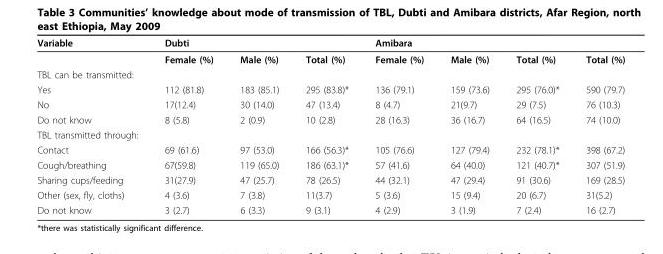table: (36, 36, 624, 215)
table column: (36, 36, 150, 215), (150, 36, 226, 215), (361, 36, 436, 215), (291, 36, 361, 215), (502, 36, 571, 215), (436, 36, 502, 215), (226, 36, 291, 215), (571, 36, 624, 215)
table column header: (36, 36, 624, 50)
table projected row header: (36, 66, 624, 81), (36, 126, 624, 141)
table row: (36, 50, 624, 66), (36, 141, 624, 157), (36, 66, 624, 81), (36, 81, 624, 96), (36, 96, 624, 111), (36, 111, 624, 126), (36, 126, 624, 141), (36, 157, 624, 172), (36, 172, 624, 187), (36, 187, 624, 202), (36, 36, 624, 50), (36, 202, 624, 215)
